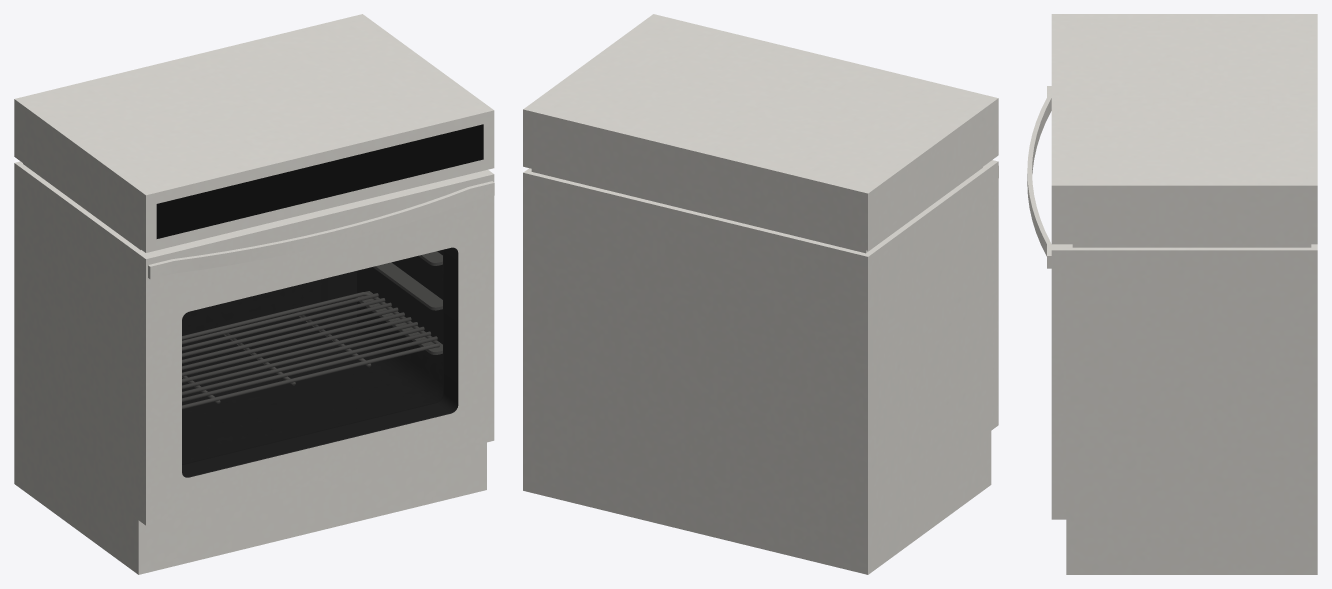
The model's file is KitchenOven05.fbx.
3 views of the same model, side by side, from view 1: azimuth 30°, elevation 25°; view 2: azimuth 150°, elevation 25°; view 3: azimuth 270°, elevation 25° (orthographic). The views are drawn at different scales.
Visible parts, largest first — view 1: KitchenOven05, KitchenOven05_Door01, KitchenOven05_Glass, OvenRack05; view 2: KitchenOven05, KitchenOven05_Door01; view 3: KitchenOven05, KitchenOven05_Door01.
Part boxes in pixels (x1,y1,x2,y2): KitchenOven05: [14, 14, 494, 574]; KitchenOven05_Door01: [138, 169, 494, 525]; KitchenOven05_Glass: [182, 247, 457, 476]; OvenRack05: [182, 292, 439, 408]; KitchenOven05: [523, 14, 998, 574]; KitchenOven05_Door01: [985, 160, 998, 430]; KitchenOven05: [1051, 14, 1317, 574]; KitchenOven05_Door01: [1027, 86, 1066, 519].
Bounding box in the file's own units: 66.02 × 69.73 × 47.13.
